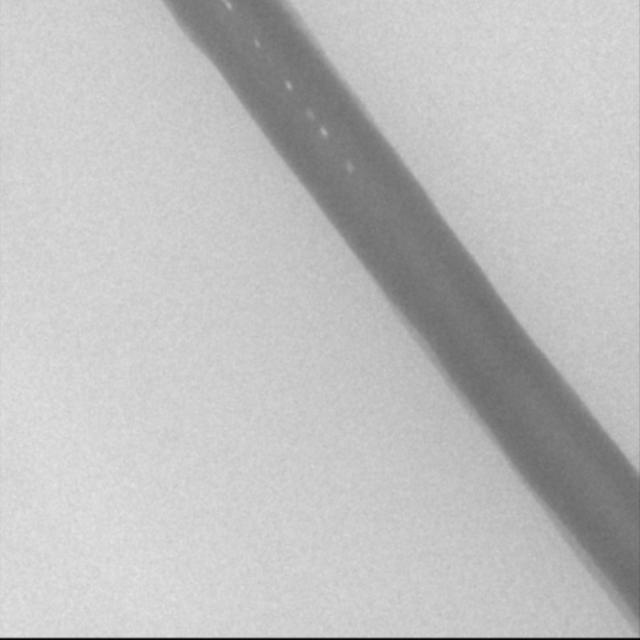air hole: (344, 160, 355, 173), (283, 79, 293, 92), (319, 127, 329, 139), (252, 37, 261, 50), (223, 2, 232, 12)
